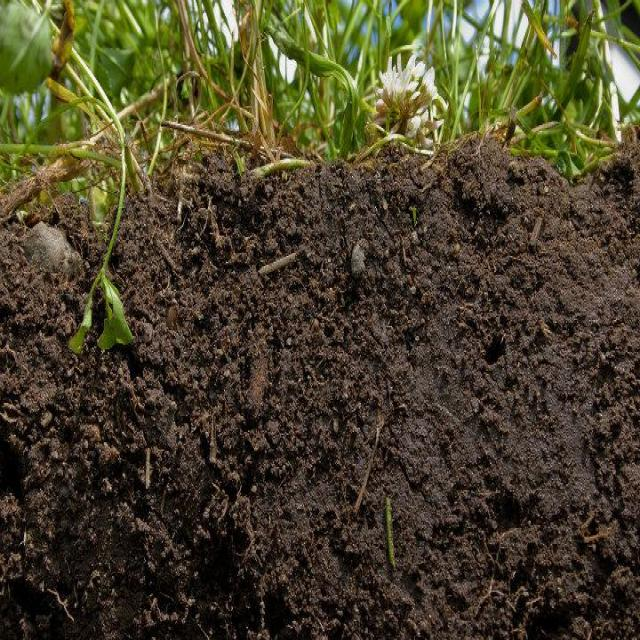suelo_humedo: (349, 314, 601, 438)
